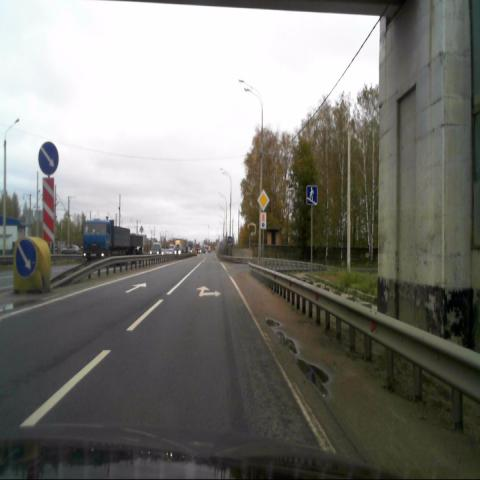6_7: (306, 185, 318, 205)
